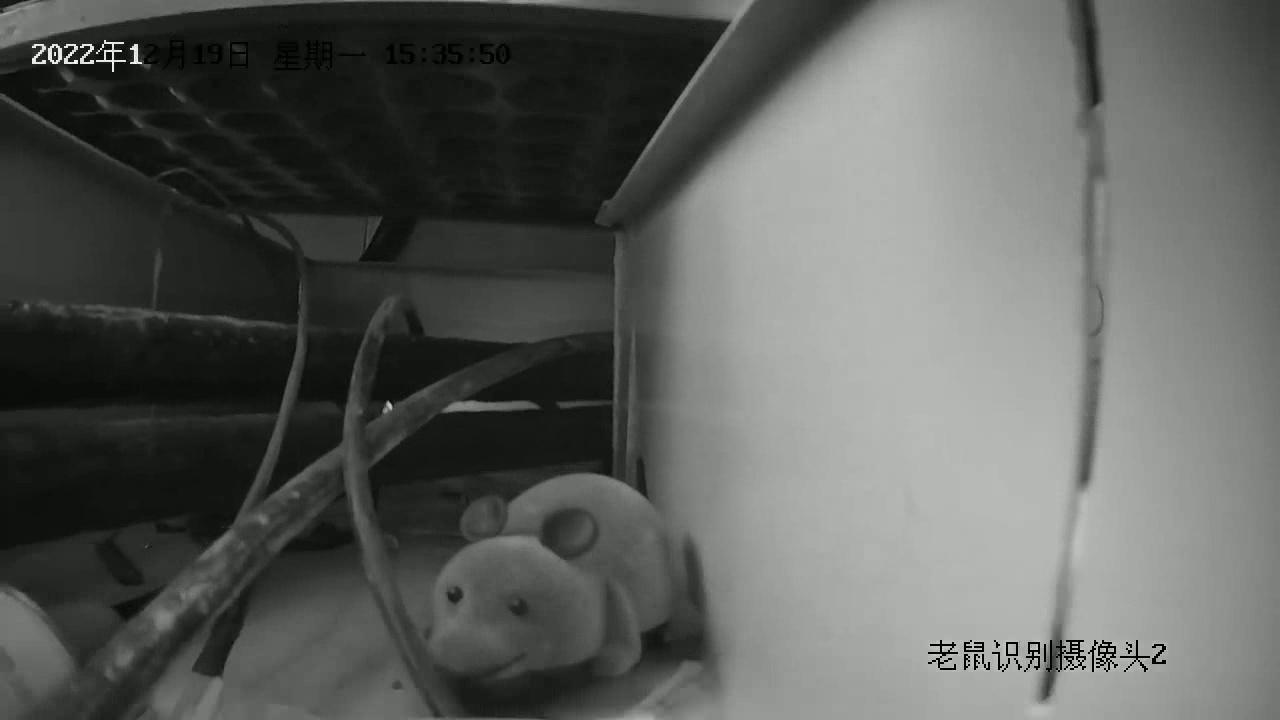rat: (424, 472, 704, 717)
